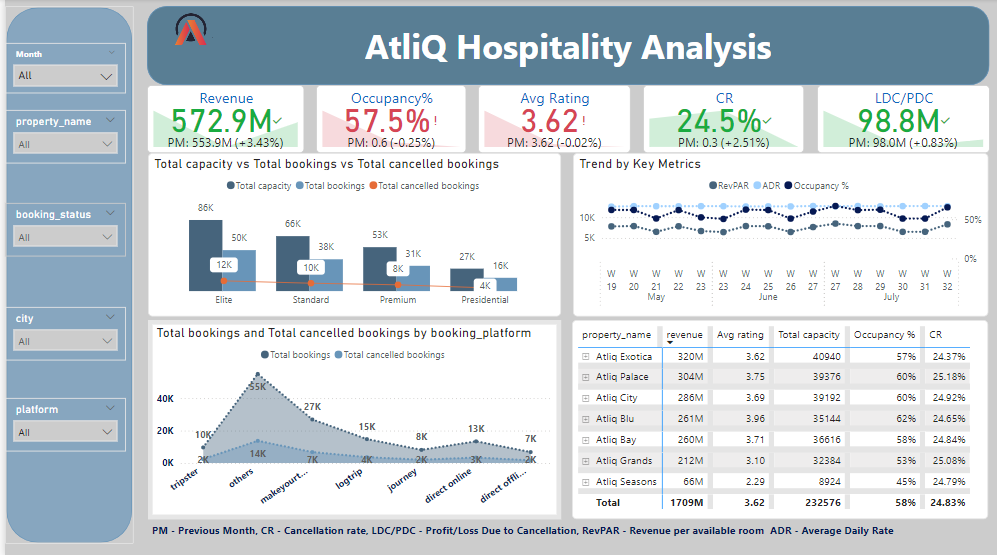

Layout of this report page (visuals, bound fields, positions):
{"tool":"powerbi","page":{"name":"Page 2","canvas":[1280,720],"ordinal":1},"visuals":[{"type":"shape","box":[182.8,8.5,1087.1,102],"z":0},{"type":"shape","box":[0,8.5,165.8,694.5],"z":1000},{"type":"kpi","title":"Revenue","fields":{"Indicator":["Measure Table.revenue"],"Goal":["Measure Table.revenue LM"],"TrendLine":["dim_date.date.Variation.Date Hierarchy.Month"]},"box":[182.8,110.6,202.7,87.9],"z":2000},{"type":"kpi","title":"Occupancy%","fields":{"Indicator":["Measure Table.Occupancy %"],"Goal":["Measure Table.Occupancy % LM"],"TrendLine":["dim_date.date.Variation.Date Hierarchy.Month"]},"box":[401.1,110.6,194.2,87.9],"z":3000},{"type":"kpi","title":"Avg Rating","fields":{"Indicator":["Measure Table.Avg rating"],"Goal":["Measure Table.avg rating LM"],"TrendLine":["dim_date.date.Variation.Date Hierarchy.Month"]},"box":[610.9,110.6,197,87.9],"z":4000},{"type":"kpi","title":"CR","fields":{"Indicator":["Measure Table.CR"],"Goal":["Measure Table.cancellation rate LM"],"TrendLine":["dim_date.date.Variation.Date Hierarchy.Month"]},"box":[823.5,110.6,208.3,87.9],"z":5000},{"type":"kpi","title":"LDC/PDC","fields":{"Indicator":["Measure Table.LDC"],"Goal":["Measure Table.LDC LM"],"TrendLine":["dim_date.date.Variation.Date Hierarchy.Month"]},"box":[1047.4,110.6,222.5,87.9],"z":6000},{"type":"lineClusteredColumnComboChart","title":"Total capacity vs Total bookings vs Total cancelled bookings ","fields":{"Category":["dim_rooms.room_class"],"Y":["Measure Table.Total capacity","Measure Table.Total bookings"],"Y2":["Measure Table.Total cancelled bookings"]},"box":[184.3,198.4,532.9,211.2],"z":7000},{"type":"lineChart","title":"Trend by Key Metrics","fields":{"Category":["dim_date.date.Variation.Date Hierarchy.Month","dim_date.week no"],"Y":["Measure Table.RevPAR","Measure Table.ADR"],"Y2":["Measure Table.Occupancy %"]},"box":[732.8,198.4,535.7,211.2],"z":8000},{"type":"areaChart","fields":{"Category":["fact_bookings.booking_platform"],"Y":["Measure Table.Total bookings","Measure Table.Total cancelled bookings"]},"box":[184.3,413.9,532.9,256.5],"z":9000},{"type":"pivotTable","fields":{"Rows":["dim_hotels.property_name","dim_hotels.city"],"Values":["Measure Table.revenue","Measure Table.Avg rating","Measure Table.Total capacity","Measure Table.Occupancy %","Measure Table.CR"]},"box":[731.3,413.9,537.2,256.5],"z":10000},{"type":"slicer","fields":{"Values":["dim_date.date.Variation.Date Hierarchy.Month"]},"box":[0,56.7,155.9,65.2],"z":11000},{"type":"slicer","fields":{"Values":["dim_hotels.property_name"]},"box":[0,143.1,155.9,69.4],"z":12000},{"type":"slicer","fields":{"Values":["fact_bookings.booking_status"]},"box":[0,263.6,155.9,69.4],"z":13000},{"type":"slicer","fields":{"Values":["dim_hotels.city"]},"box":[0,396.9,155.9,69.4],"z":14000},{"type":"slicer","fields":{"Values":["fact_bookings.booking_platform"]},"box":[0,514.5,155.9,69.4],"z":15000},{"type":"textbox","box":[184.3,670.4,1085.7,32.6],"z":16000}]}

Visuals, with their boxes in screenshot pixels (x1, y1, x2, y2), scaled from the page's 1280x720 canvas onto the 997x555 screenshot:
shape: box=[142, 7, 989, 85]
shape: box=[0, 7, 129, 542]
"Revenue" kpi: box=[142, 85, 300, 153]
"Occupancy%" kpi: box=[312, 85, 464, 153]
"Avg Rating" kpi: box=[476, 85, 629, 153]
"CR" kpi: box=[641, 85, 804, 153]
"LDC/PDC" kpi: box=[816, 85, 989, 153]
"Total capacity vs Total bookings vs Total cancelled bookings " lineClusteredColumnComboChart: box=[144, 153, 559, 316]
"Trend by Key Metrics" lineChart: box=[571, 153, 988, 316]
areaChart - fact_bookings.booking_platform x Measure Table.Total bookings: box=[144, 319, 559, 517]
pivotTable - dim_hotels.property_name x dim_hotels.city: box=[570, 319, 988, 517]
slicer - dim_date.date.Variation.Date Hierarchy.Month: box=[0, 44, 121, 94]
slicer - dim_hotels.property_name: box=[0, 110, 121, 164]
slicer - fact_bookings.booking_status: box=[0, 203, 121, 257]
slicer - dim_hotels.city: box=[0, 306, 121, 359]
slicer - fact_bookings.booking_platform: box=[0, 397, 121, 450]
textbox: box=[144, 517, 989, 542]
